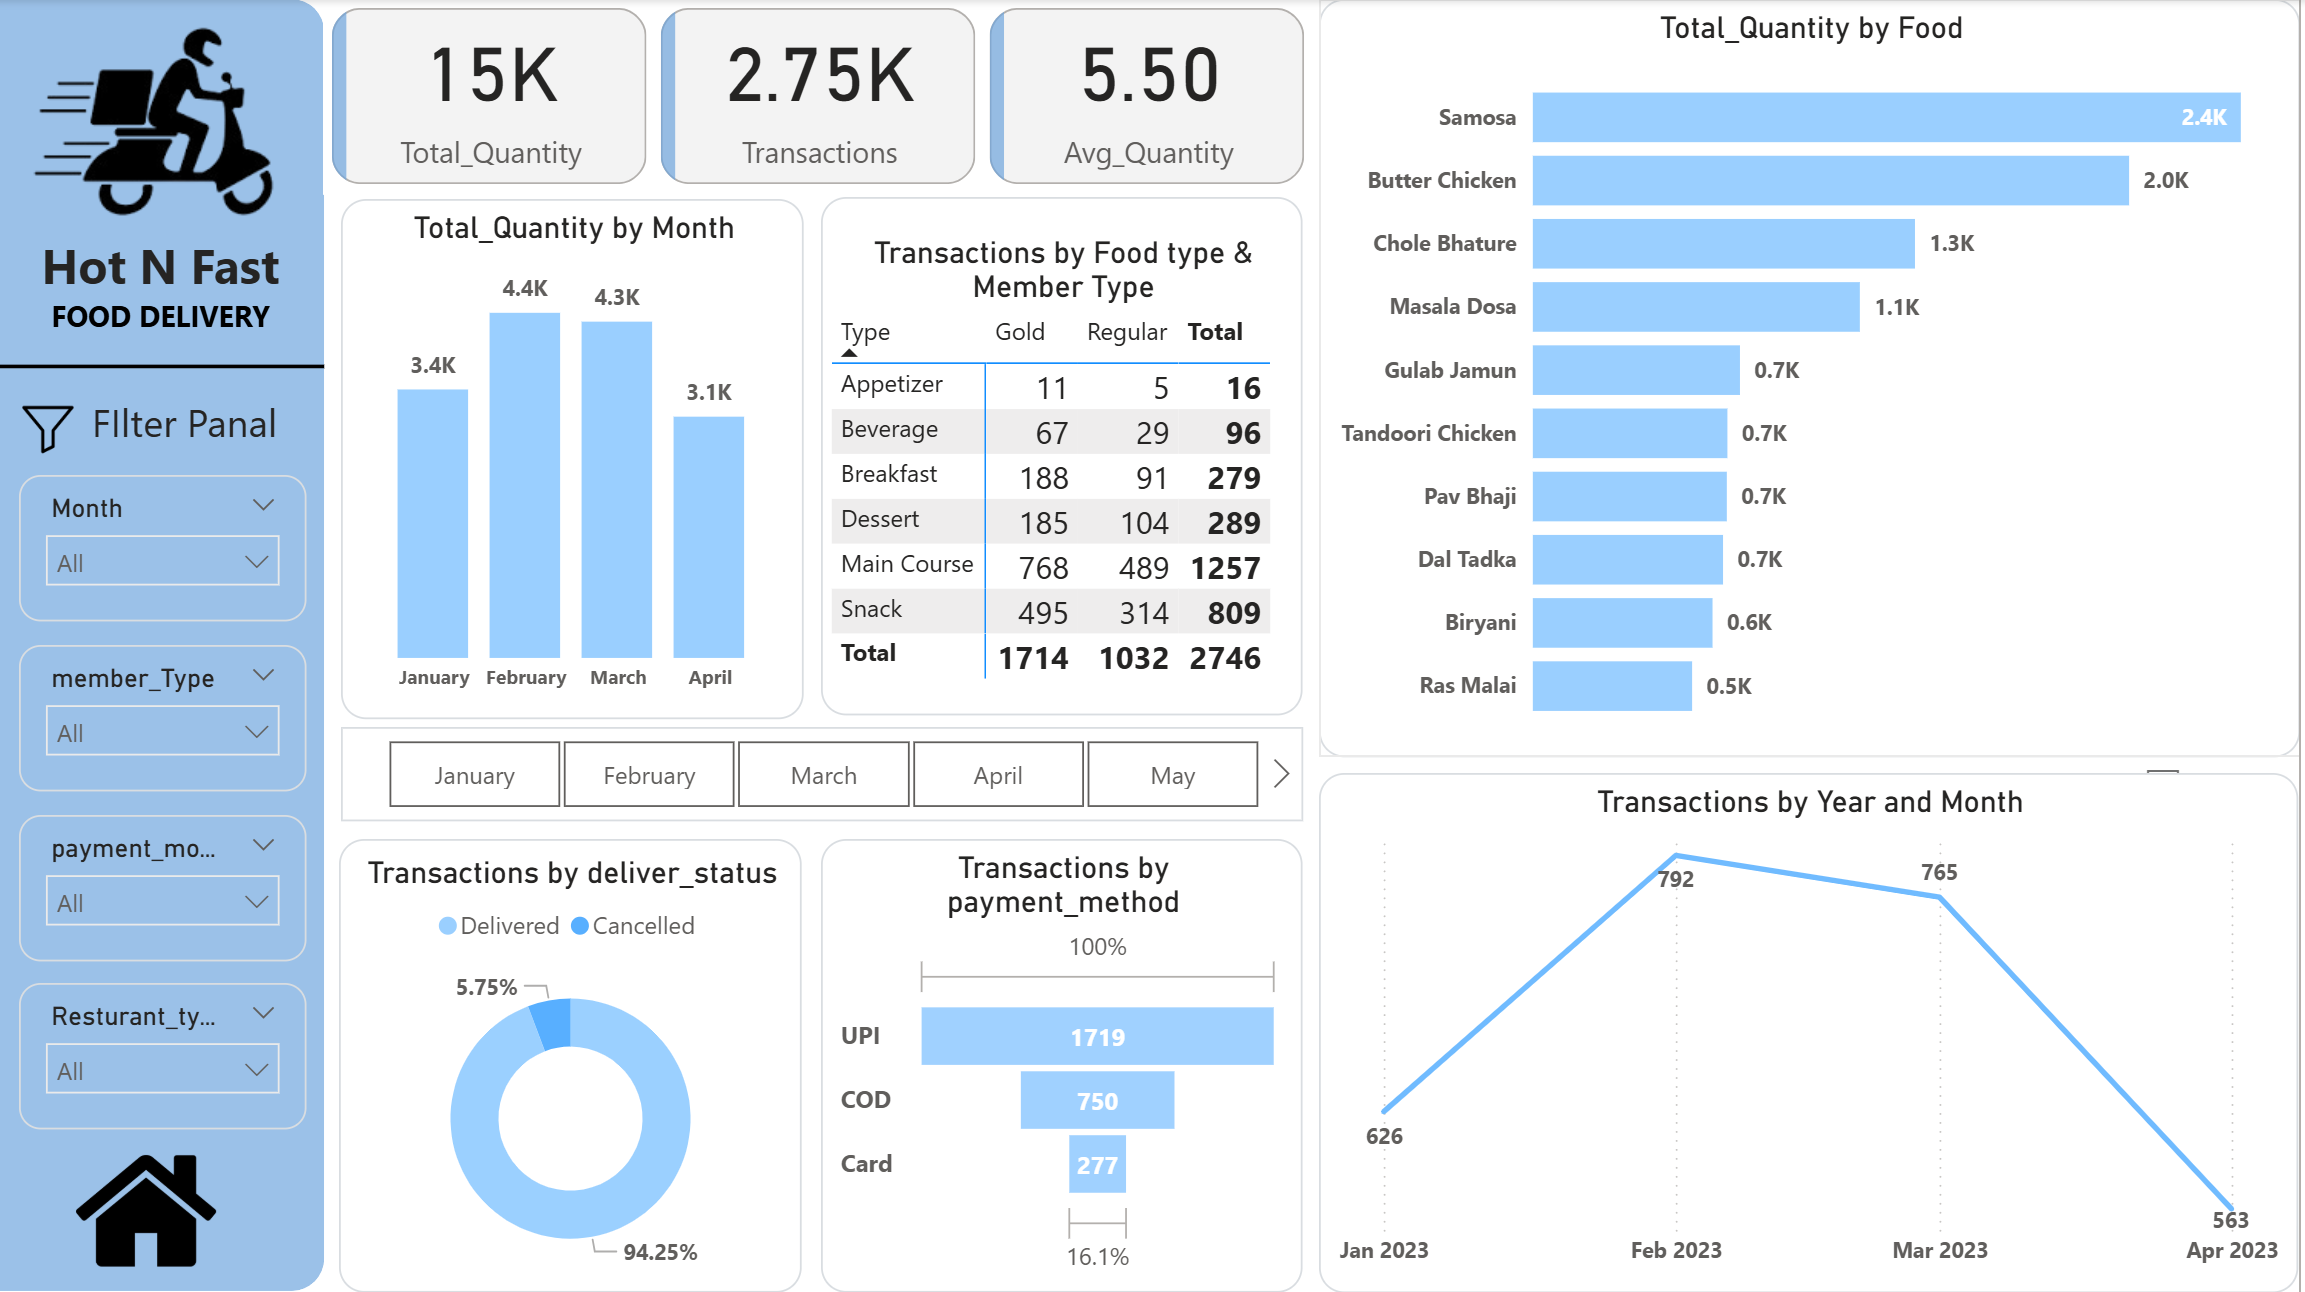

The dashboard page shown, as its layout file describes it:
{"tool":"powerbi","page":{"name":"Page 1","canvas":[1280,720],"ordinal":0},"visuals":[{"type":"shape","box":[0,0,181,719],"z":0},{"type":"textbox","box":[8.9,124.9,161.9,88],"z":1000},{"type":"shape","box":[0,197.6,181,12.7],"z":2000},{"type":"cardVisual","fields":{"Data":["Sales Data.Total_Quantity","Sales Data.Transactions","Sales Data.Avg_Quantity"]},"box":[180.8,0,553.8,109],"z":3000},{"type":"clusteredColumnChart","fields":{"Y":["Sales Data.Total_Quantity"],"Category":["Sales Data.orderDate.Variation.Date Hierarchy.Month"]},"box":[190,110.9,257.5,289.4],"z":4000},{"type":"pivotTable","title":"Transactions by Food type & Member Type","fields":{"Rows":["Food_Details.Type"],"Columns":["Customer Details.member_Type"],"Values":["Sales Data.Transactions"]},"box":[457.7,110.3,267.9,288.5],"z":5000},{"type":"donutChart","fields":{"Category":["Sales Data.deliver_status"],"Y":["Sales Data.Transactions"]},"box":[189.7,467.9,257.7,252.6],"z":6000},{"type":"funnel","fields":{"Category":["Sales Data.payment_method"],"Y":["Sales Data.Transactions"]},"box":[457.7,467.9,267.9,252.6],"z":7000},{"type":"clusteredBarChart","fields":{"Y":["Sales Data.Total_Quantity"],"Category":["Food_Details.Food"]},"box":[734.6,0,546.2,421.8],"z":8000},{"type":"lineChart","fields":{"Y":["Sales Data.Transactions"],"Category":["Sales Data.orderDate.Variation.Date Hierarchy.Year","Sales Data.orderDate.Variation.Date Hierarchy.Month"]},"box":[734.6,430.8,544.9,289.7],"z":9000},{"type":"slicer","fields":{"Values":["Sales Data.orderDate.Variation.Date Hierarchy.Month"]},"box":[10.7,265.3,160,81.3],"z":10000},{"type":"slicer","fields":{"Values":["Customer Details.member_Type"]},"box":[10.7,360,160,81.3],"z":11000},{"type":"slicer","fields":{"Values":["Sales Data.payment_method"]},"box":[10.7,454.7,160,81.3],"z":12000},{"type":"slicer","fields":{"Values":["Resturant_Details.Resturant_type"]},"box":[10.7,548,160,81.3],"z":13000},{"type":"slicer","fields":{"Values":["Sales Data.orderDate.Variation.Date Hierarchy.Month"]},"box":[190,405.4,535.5,52.3],"z":14000},{"type":"image","box":[0,220,54.7,38.7],"z":15000},{"type":"image","box":[37.3,629.3,88,90.7],"z":16000},{"type":"textbox","box":[46.7,216,134.7,42.7],"z":17000},{"type":"image","box":[0,0,172.1,136.4],"z":18000}]}

Visuals, with their boxes in screenshot pixels (x1, y1, x2, y2), scaled from the page's 1280x720 canvas onto the 2305x1292 screenshot:
shape: (x1=0, y1=0, x2=326, y2=1290)
textbox: (x1=16, y1=224, x2=308, y2=382)
shape: (x1=0, y1=355, x2=326, y2=377)
cardVisual - Sales Data.Total_Quantity x Sales Data.Transactions: (x1=326, y1=0, x2=1323, y2=196)
clusteredColumnChart - Sales Data.Total_Quantity x Sales Data.orderDate.Variation.Date Hierarchy.Month: (x1=342, y1=199, x2=806, y2=718)
"Transactions by Food type & Member Type" pivotTable: (x1=824, y1=198, x2=1307, y2=716)
donutChart - Sales Data.deliver_status x Sales Data.Transactions: (x1=342, y1=840, x2=806, y2=1291)
funnel - Sales Data.payment_method x Sales Data.Transactions: (x1=824, y1=840, x2=1307, y2=1291)
clusteredBarChart - Sales Data.Total_Quantity x Food_Details.Food: (x1=1323, y1=0, x2=2304, y2=757)
lineChart - Sales Data.Transactions x Sales Data.orderDate.Variation.Date Hierarchy.Year: (x1=1323, y1=773, x2=2304, y2=1291)
slicer - Sales Data.orderDate.Variation.Date Hierarchy.Month: (x1=19, y1=476, x2=307, y2=622)
slicer - Customer Details.member_Type: (x1=19, y1=646, x2=307, y2=792)
slicer - Sales Data.payment_method: (x1=19, y1=816, x2=307, y2=962)
slicer - Resturant_Details.Resturant_type: (x1=19, y1=983, x2=307, y2=1129)
slicer - Sales Data.orderDate.Variation.Date Hierarchy.Month: (x1=342, y1=727, x2=1306, y2=821)
image: (x1=0, y1=395, x2=99, y2=464)
image: (x1=67, y1=1129, x2=226, y2=1291)
textbox: (x1=84, y1=388, x2=327, y2=464)
image: (x1=0, y1=0, x2=310, y2=245)
